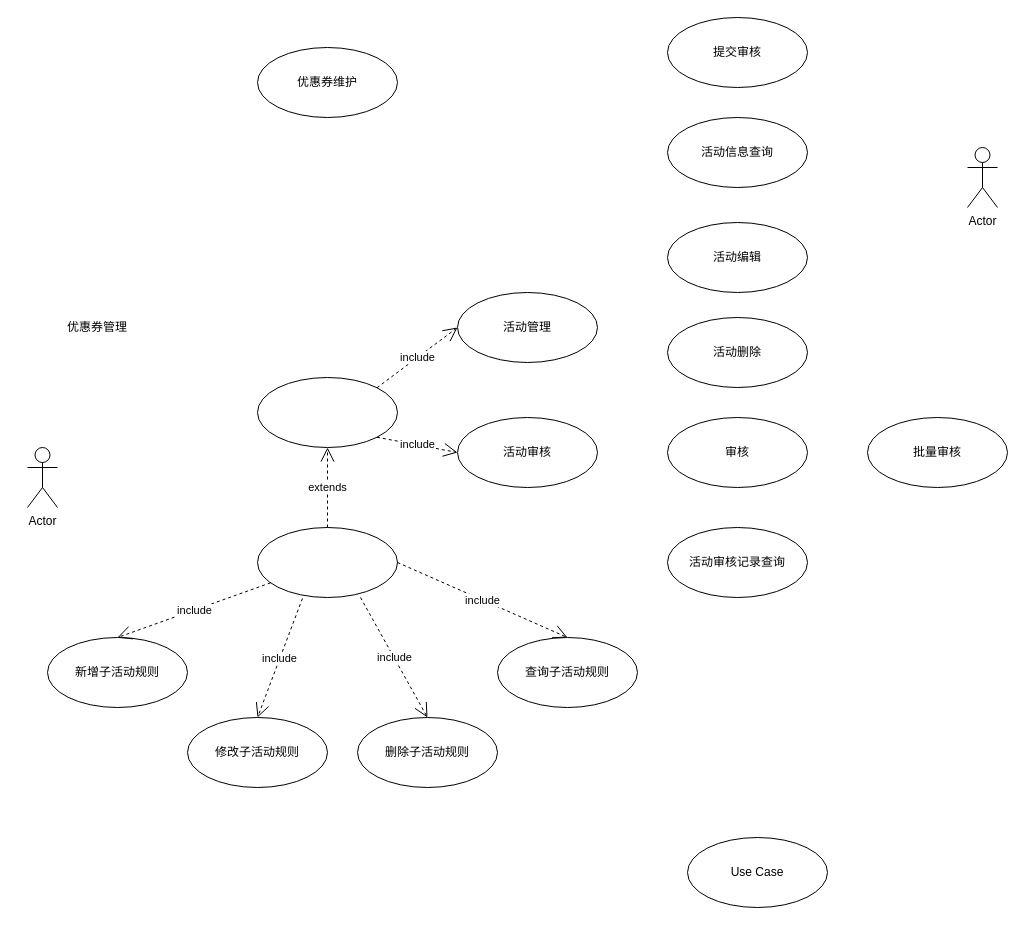
Some shapes in this 1025 by 925 pixel diagram are drawn without their labels. Here are the shapes that lost their labels. From the top down, the centre of each, then its label:
point 327,412: 活动维护
point 327,562: 子活动维护
